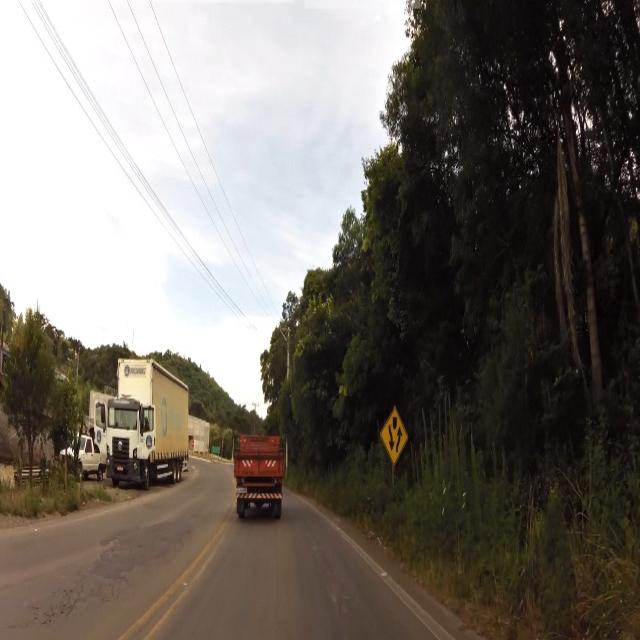A-42a: (384, 408, 409, 466)
